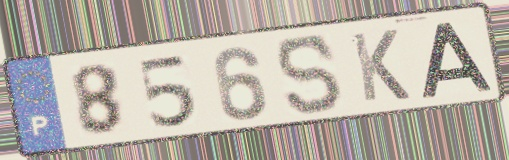5: (134, 51, 199, 130)
6: (210, 43, 269, 123)
8: (68, 61, 128, 139)
A: (419, 19, 496, 100)
K: (347, 27, 413, 105)
S: (274, 32, 347, 117)
